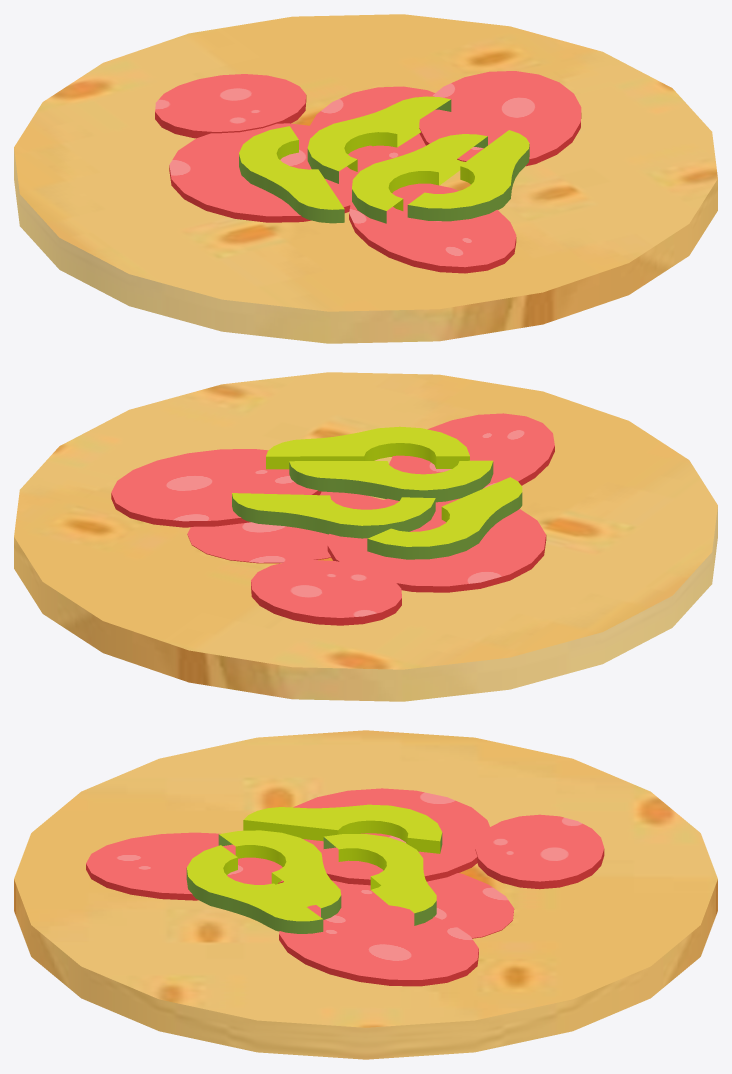
The model's file is taco_Carne_Aguacate.glb.
3 views of the same model, one above another, from view 1: azimuth 30°, elevation 25°; view 2: azimuth 150°, elevation 25°; view 3: azimuth 270°, elevation 25° (orthographic).
Visible parts, largest first — view 1: tortilla.002, Ham_Slice_Ham_0.002, Avocado_Slice_Avocado_0; view 2: tortilla.002, Ham_Slice_Ham_0.002, Avocado_Slice_Avocado_0; view 3: tortilla.002, Ham_Slice_Ham_0.002, Avocado_Slice_Avocado_0.
Boxes of the visible parts, x1,y1,x2,y2 form: tortilla.002: (14, 14, 717, 343); Ham_Slice_Ham_0.002: (155, 71, 581, 273); Avocado_Slice_Avocado_0: (239, 96, 529, 223); tortilla.002: (14, 372, 717, 701); Ham_Slice_Ham_0.002: (111, 413, 554, 625); Avocado_Slice_Avocado_0: (232, 426, 522, 559); tortilla.002: (14, 730, 717, 1059); Ham_Slice_Ham_0.002: (86, 788, 604, 986); Avocado_Slice_Avocado_0: (186, 804, 442, 933).
Bounding box in the file's own units: 0.2118 × 0.0169 × 0.2118.
3 materials, 3 textured.
